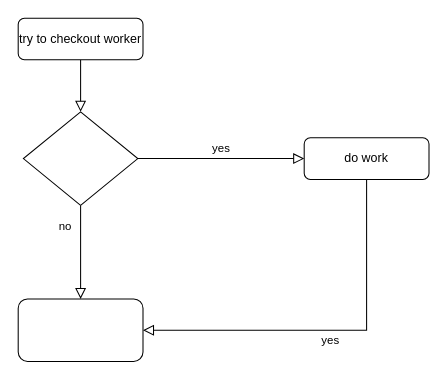
The diagram is 447 pixels wide and 380 high, and some of its shapes have lost their labels. Each missing label, with the box of its shape:
checkin worker: (17, 298, 143, 361)
Success, before timeout?: (22, 111, 138, 205)
